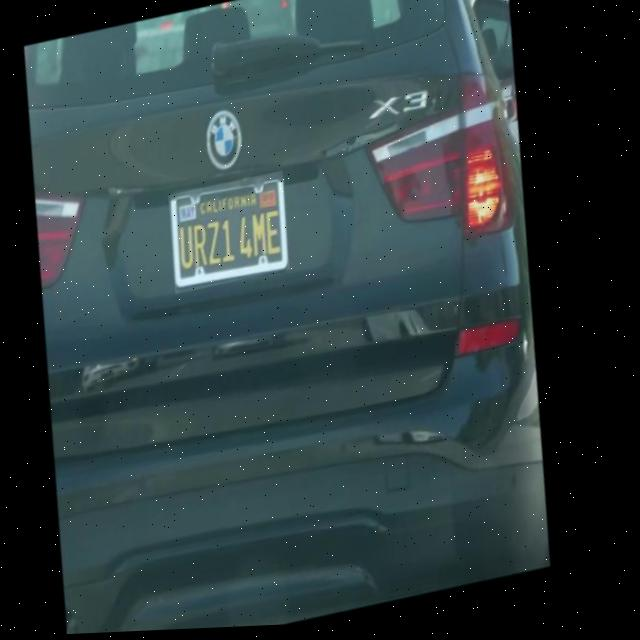LicensePlate: (164, 172, 304, 296)
